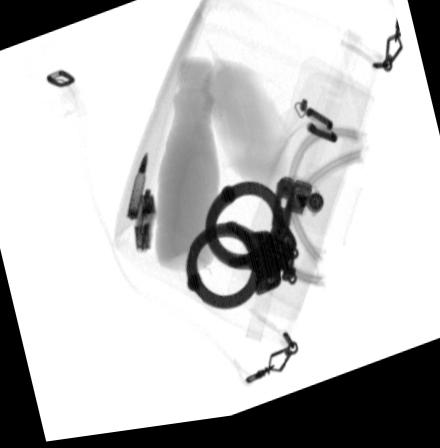Bullet: (128, 154, 146, 223)
HandCuffs: (183, 184, 299, 315)
